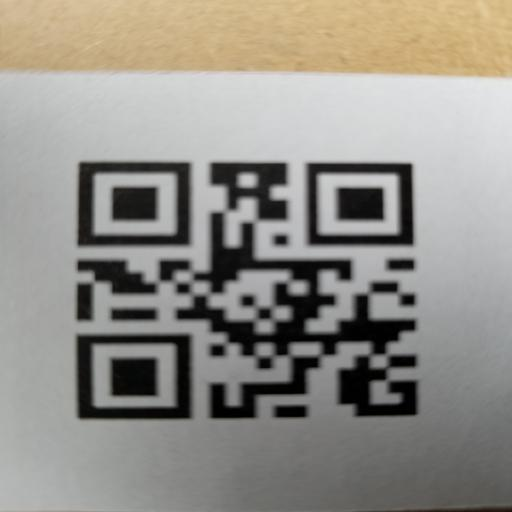QR_CODE: (28, 126, 468, 450)
